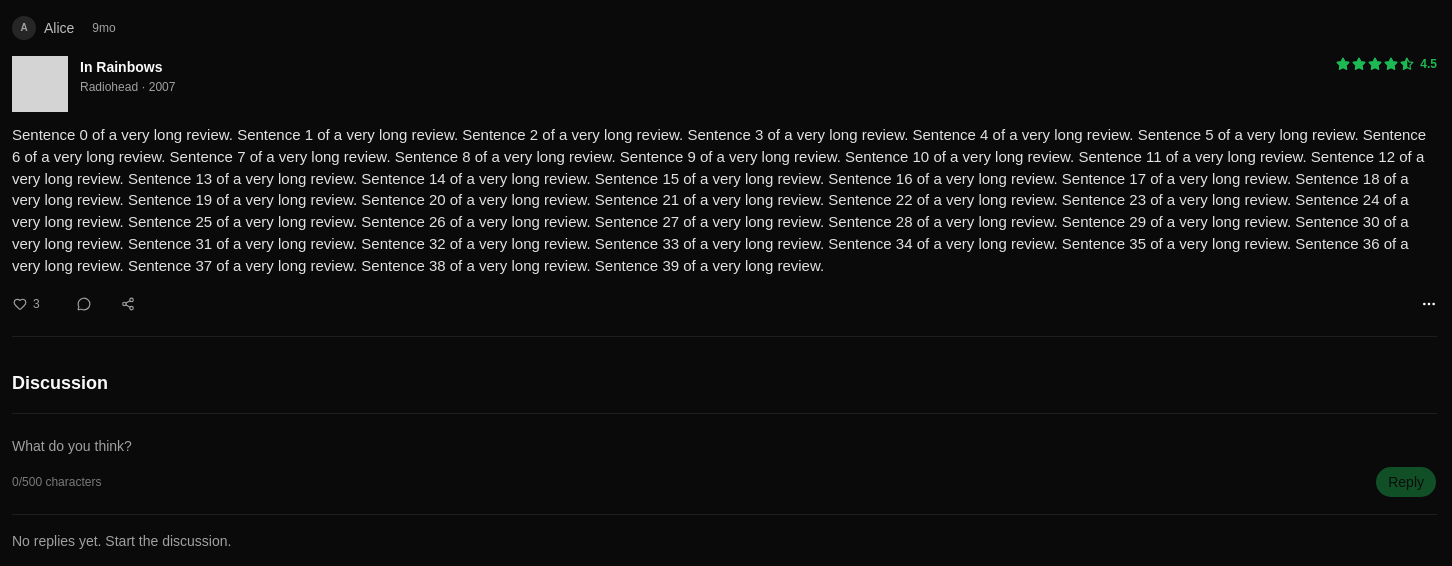
Scenario: ReviewConversationContent › prevents duplicate submission while preserving keyboard focus
In the text box named "Add a reply": (724, 446) [12,430,1437,462], type "Only once"
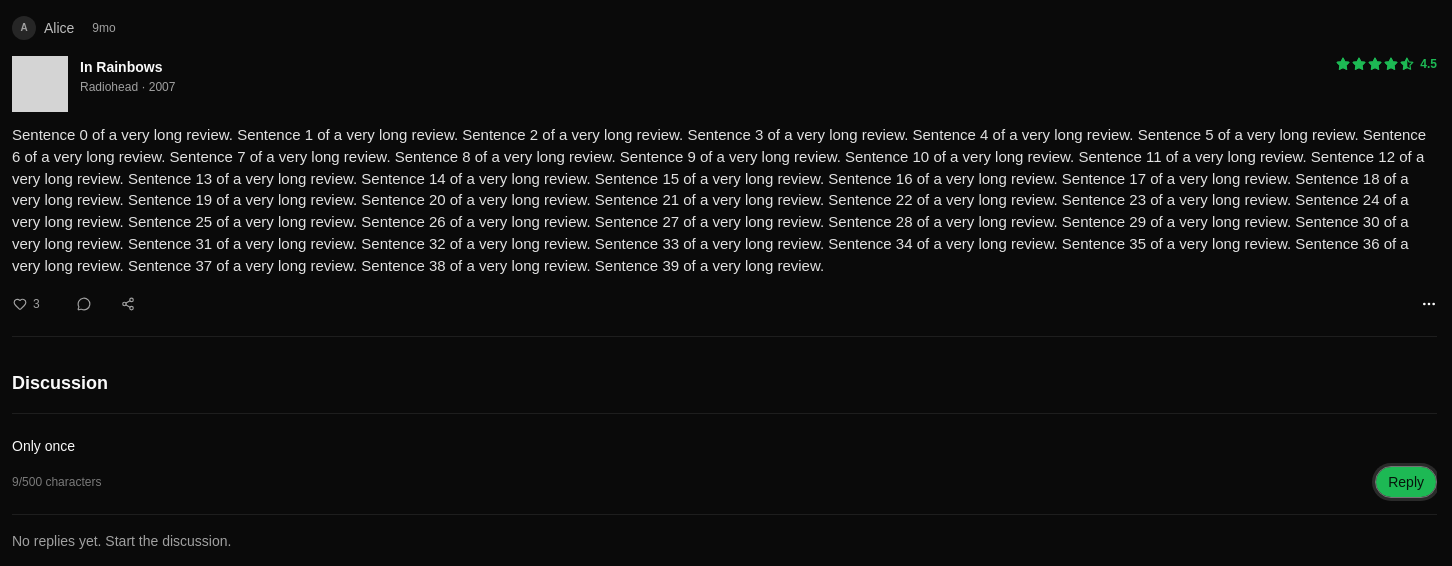
Click the button "Reply": (1406, 482) [1375,466,1437,498]
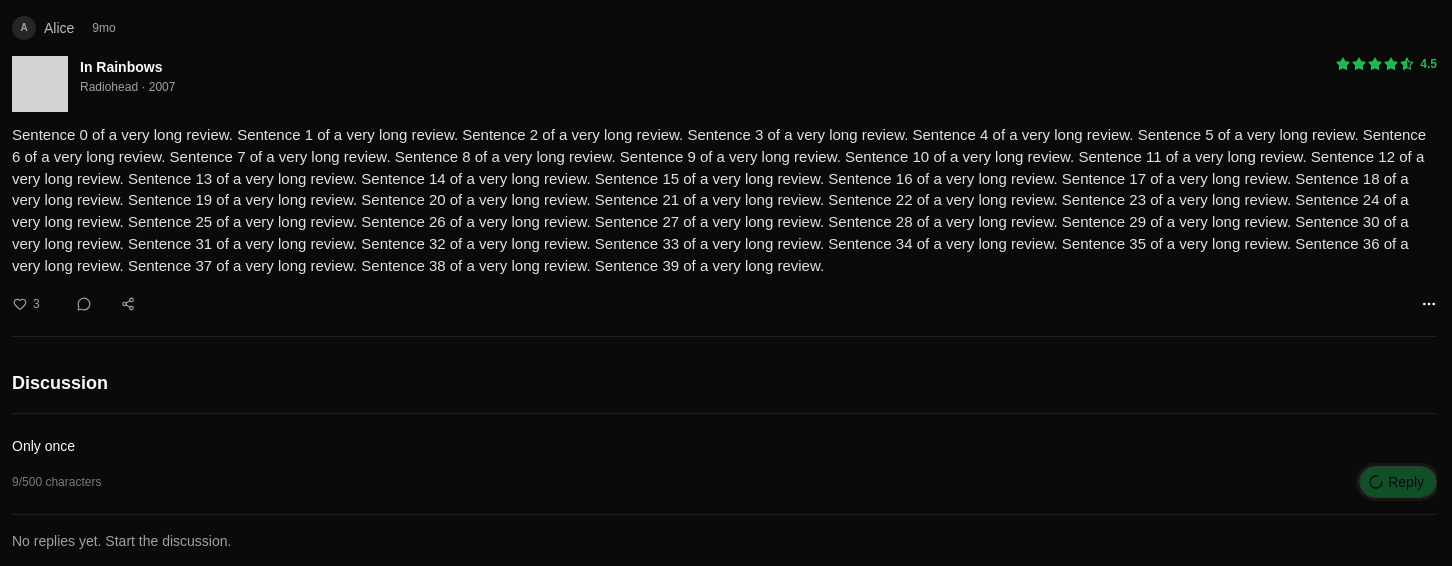
Click the button "Reply": (1398, 482) [1359,466,1437,498]
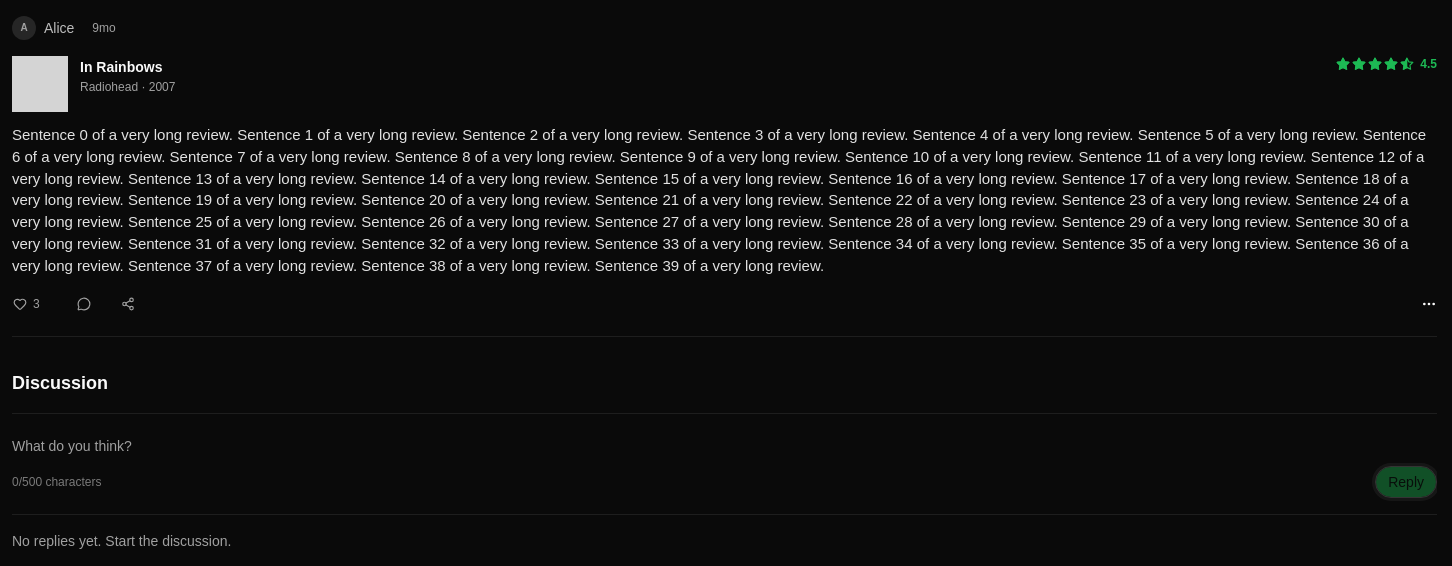
Check: the button "Reply" is enabled, box [1375,466,1437,498]
Check: the text box named "Add a reply" is empty, box [12,430,1437,462]
